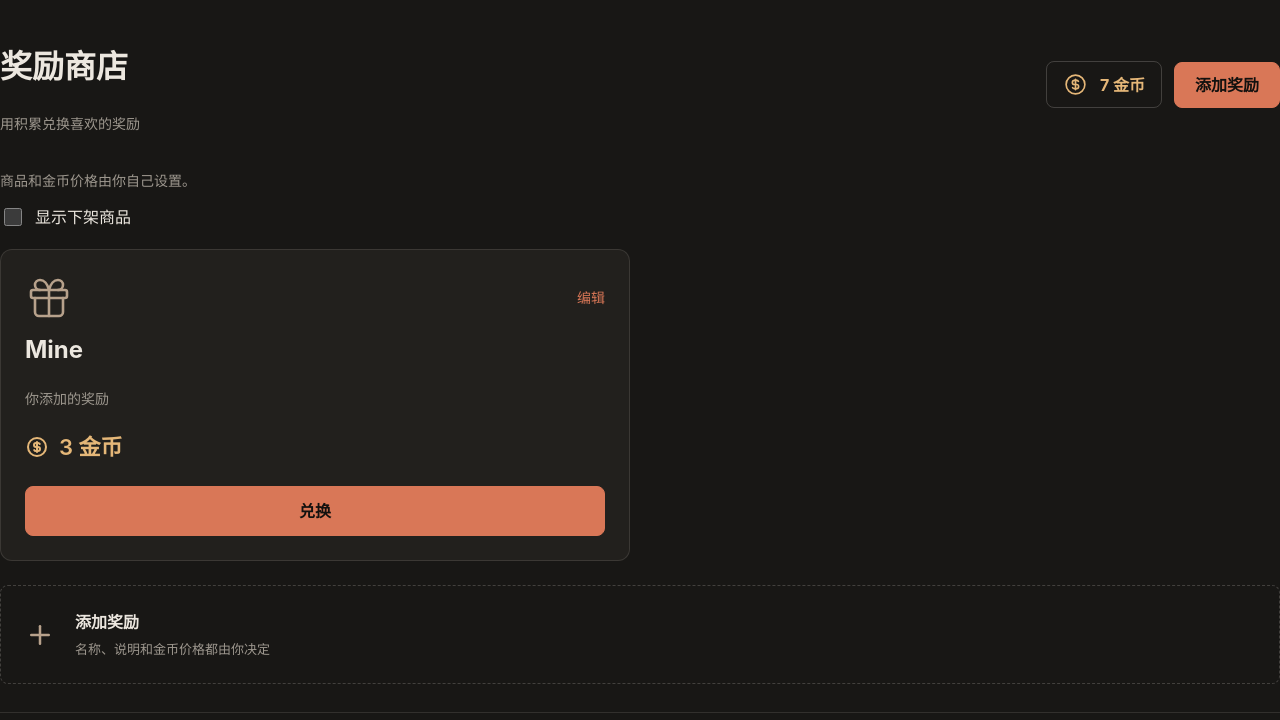
Test: shows only a preview deduction until confirmed by database
The width and height of the screenshot is (1280, 720).
Click the button "兑换".
click(315, 511)  # box left=25, top=486, right=605, bottom=536
(page scrolled)
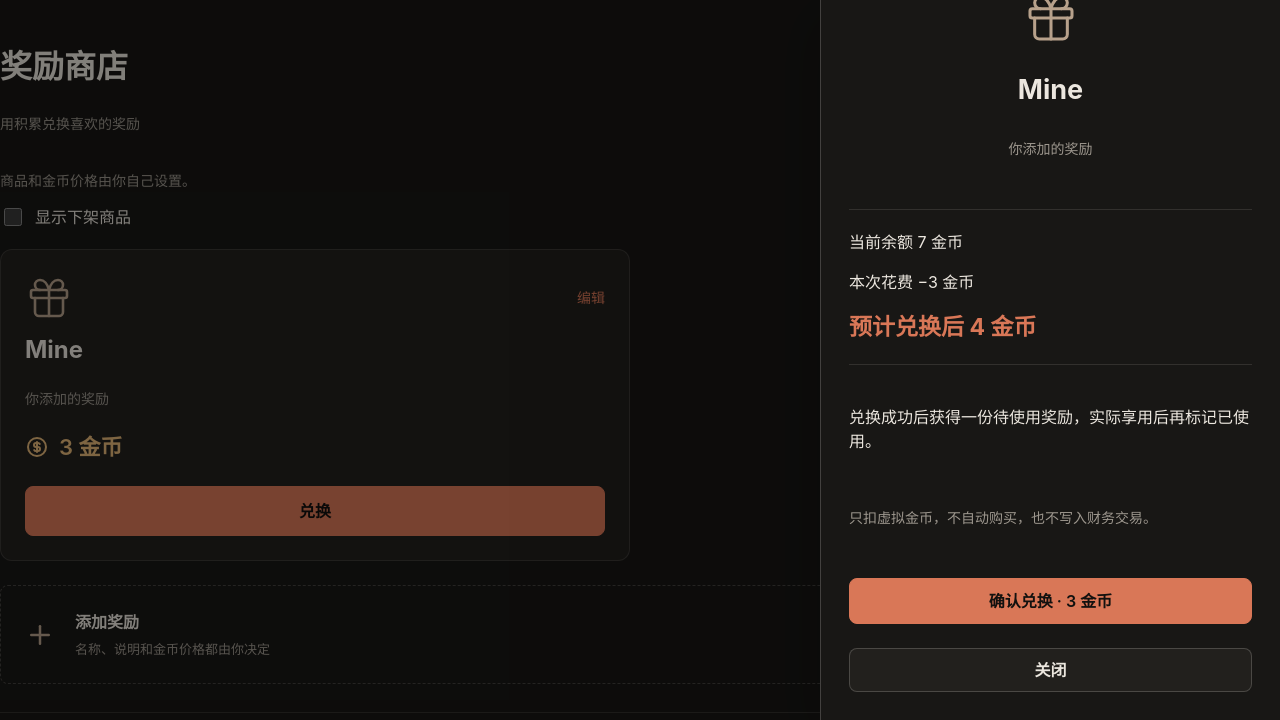
expect the text "预计兑换后 4 金币" is shown: met, box left=849, top=312, right=1036, bottom=340
expect the button "确认兑换 · 3 金币" is enabled: met, box left=849, top=578, right=1252, bottom=624
